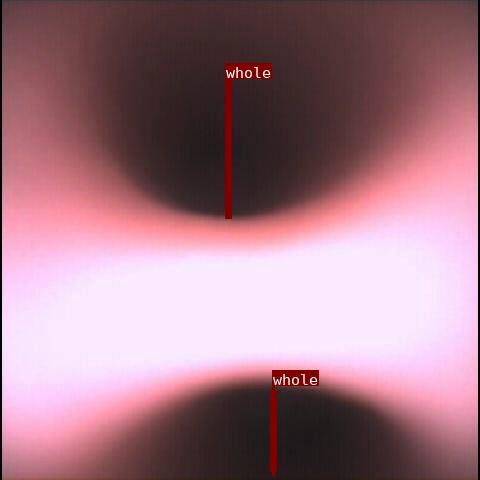whole: (225, 79, 231, 218), (272, 386, 274, 476)
